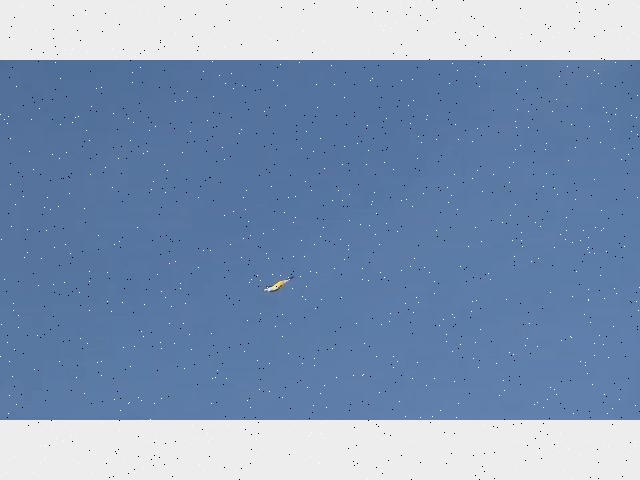Anti-Drone: (264, 276, 294, 292)
